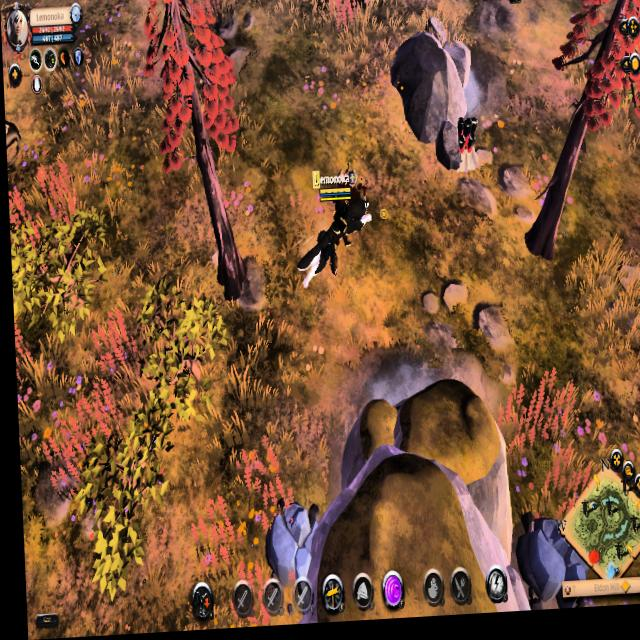ore tier 5: (450, 116, 480, 177)
rock tier 4: (255, 498, 324, 584)
wood tier 5: (140, 0, 243, 176)
